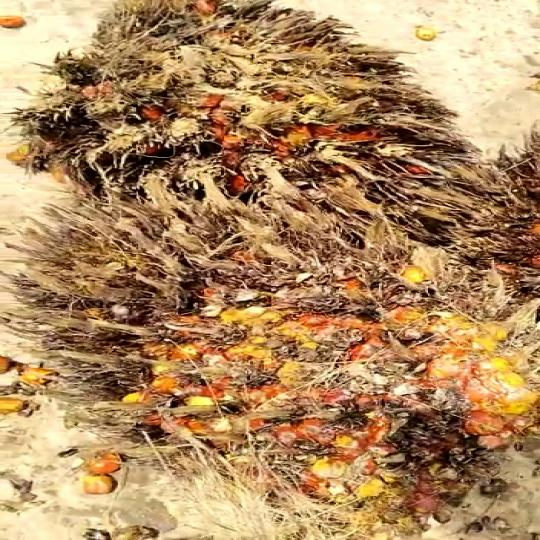terlalu masak: (12, 199, 540, 521), (0, 11, 483, 196)
